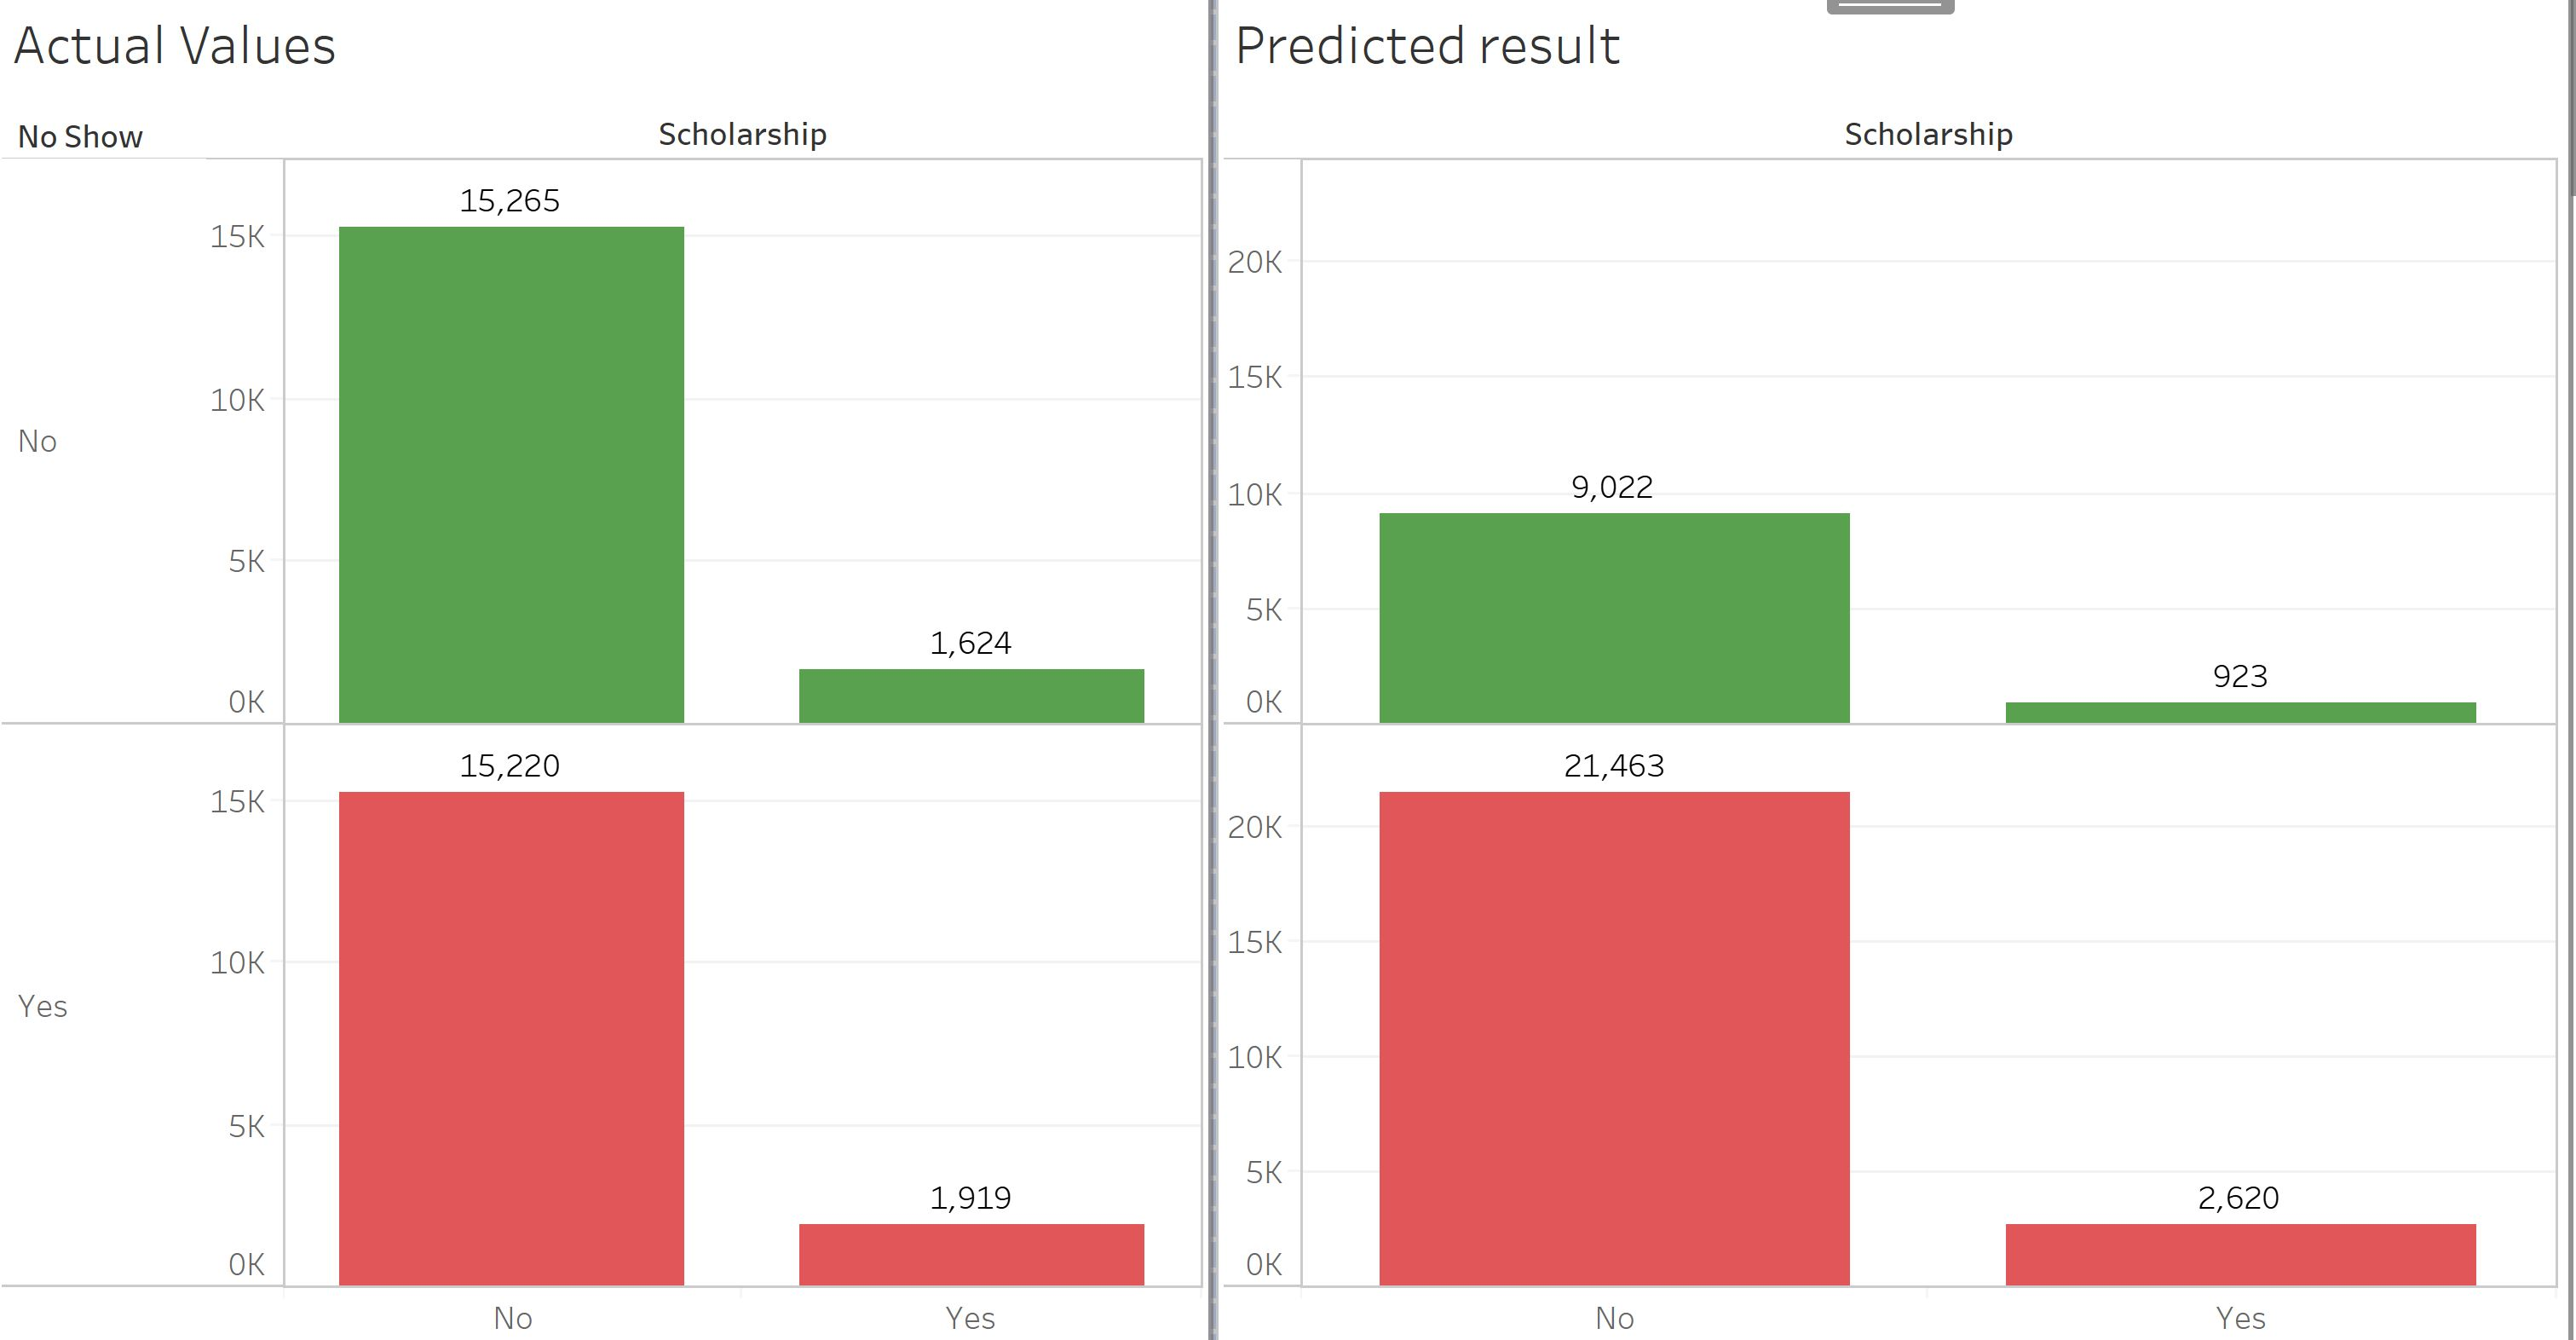

What the dashboard file says about the page in this screenshot:
{"tool":"tableau","page":{"name":"scholarship dashboard","canvas":[1000,800],"ordinal":2},"visuals":[{"type":"worksheet","title":"scholarship noshow","mark":"Bar","rows":["no_show","n0_show"],"cols":["scholarship"],"box":[8,8,492,784]},{"type":"worksheet","title":"scholarship pred","mark":"Automatic","rows":["predicted","pred"],"cols":["scholarship"],"box":[500,8,492,784]}]}

Visuals, with their boxes on the page's 1000x800 design canvas (x1, y1, x2, y2). These are canvas units, not pixel positions in the 2576x1340 screenshot, which may show the page scaled, cropped or inside an application window:
"scholarship noshow" worksheet (Bar marks): [left=8, top=8, right=500, bottom=792]
"scholarship pred" worksheet: [left=500, top=8, right=992, bottom=792]
